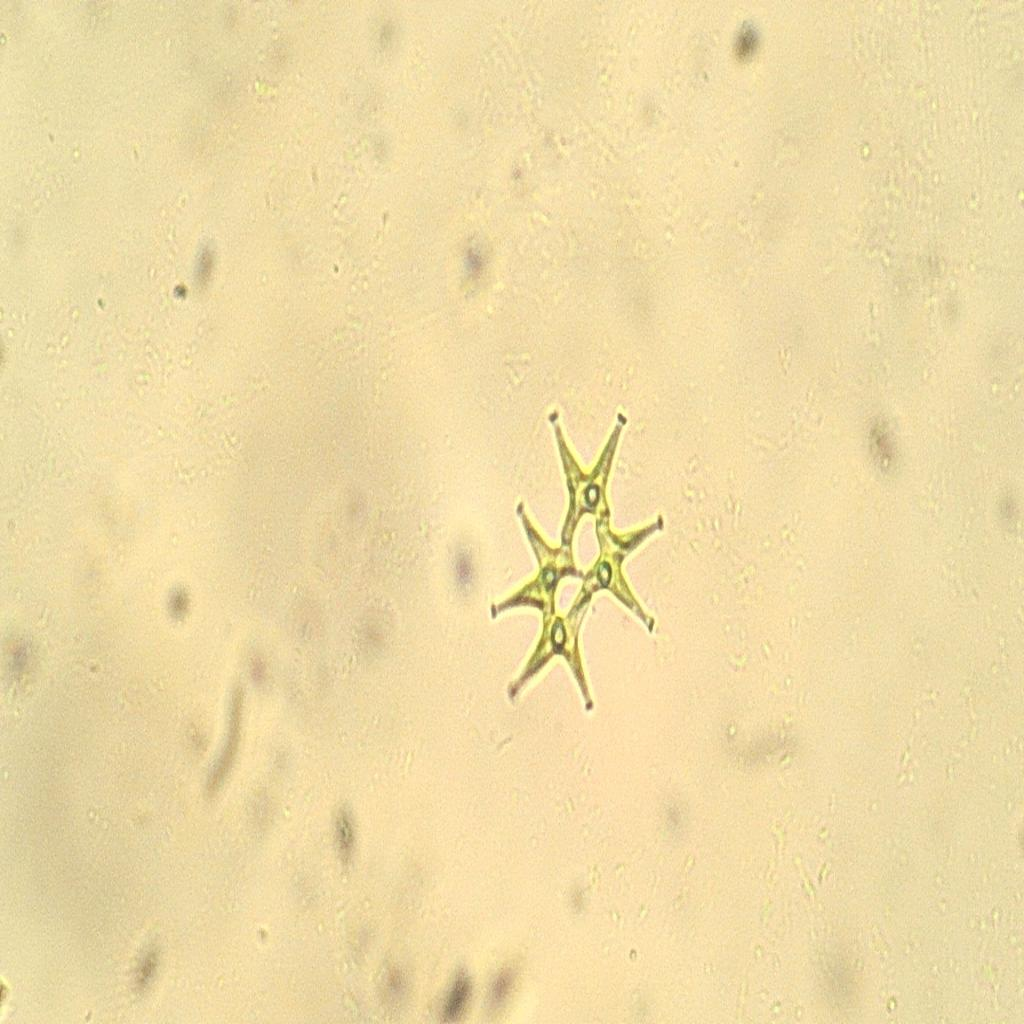Pediastrum_75FO: (474, 389, 668, 739)
